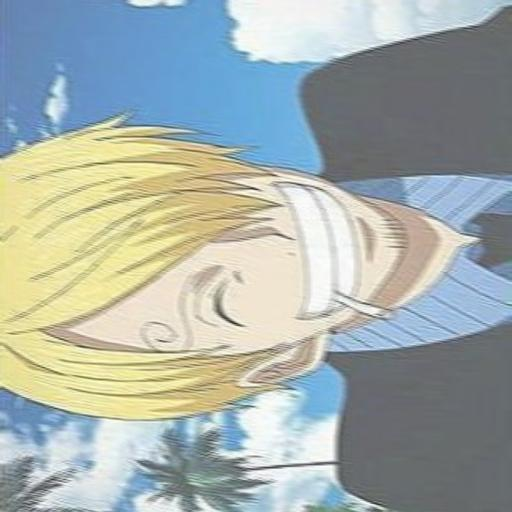sanji: (0, 1, 511, 502)
